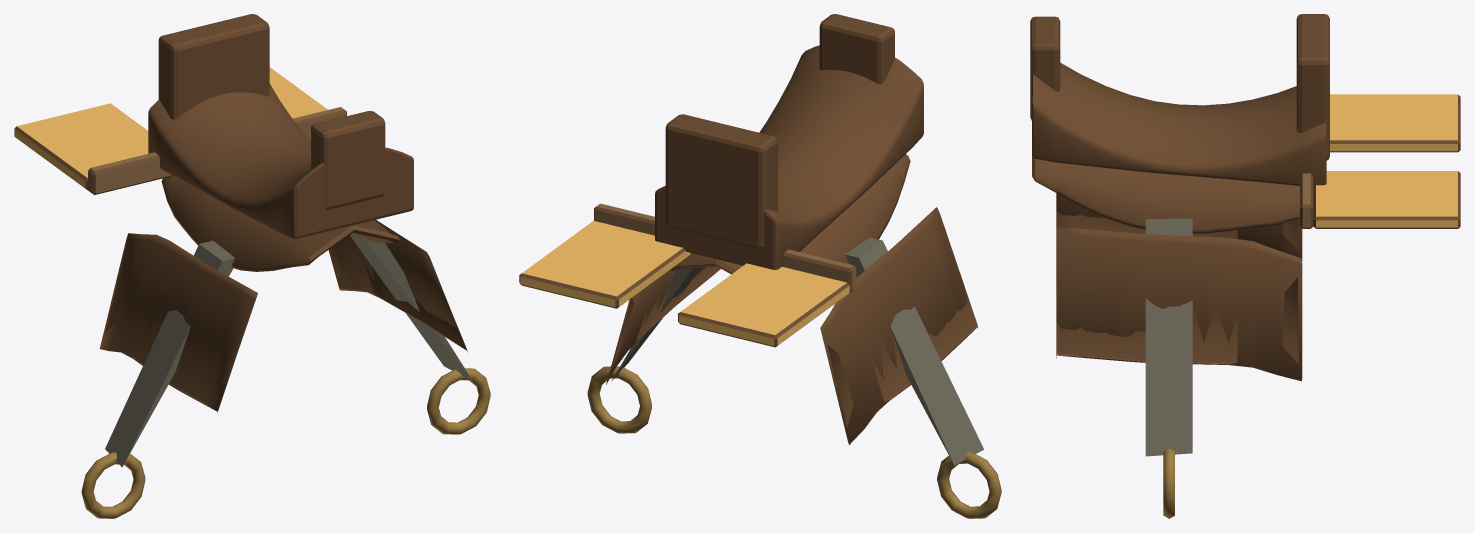
Rendered from saddle_loper.fbx.
3 renders of one model, left to right at view 1: azimuth 30°, elevation 25°; view 2: azimuth 150°, elevation 25°; view 3: azimuth 270°, elevation 25°, orthographic.
Parts seen in each view (by area): view 1: Mesh_SaddleSeat_Loper, Mesh_SaddleSkirt_Loper_R, Mesh_SaddleEnds_Loper, Mesh_SaddlePannier_Loper_R, Mesh_SaddlePanel_Loper, Mesh_SaddleStirrup_Loper_R, Mesh_SaddleSkirt_Loper_L, Mesh_SaddleStirrup_Loper_L, Mesh_SaddlePannier_Loper_L; view 2: Mesh_SaddleSeat_Loper, Mesh_SaddleSkirt_Loper_R, Mesh_SaddleEnds_Loper, Mesh_SaddlePannier_Loper_R, Mesh_SaddlePannier_Loper_L, Mesh_SaddleStirrup_Loper_R, Mesh_SaddlePanel_Loper, Mesh_SaddleStirrup_Loper_L, Mesh_SaddleSkirt_Loper_L; view 3: Mesh_SaddleSkirt_Loper_L, Mesh_SaddleSeat_Loper, Mesh_SaddlePanel_Loper, Mesh_SaddlePannier_Loper_L, Mesh_SaddleStirrup_Loper_L, Mesh_SaddlePannier_Loper_R, Mesh_SaddleEnds_Loper, Mesh_SaddleSkirt_Loper_R.
Part boxes in pixels (left/top/right/bottom): Mesh_SaddleSeat_Loper: left=148, top=84, right=413, bottom=239; Mesh_SaddleSkirt_Loper_R: left=99, top=233, right=257, bottom=412; Mesh_SaddleEnds_Loper: left=158, top=14, right=385, bottom=209; Mesh_SaddlePannier_Loper_R: left=14, top=103, right=172, bottom=194; Mesh_SaddlePanel_Loper: left=161, top=176, right=400, bottom=271; Mesh_SaddleStirrup_Loper_R: left=81, top=240, right=234, bottom=518; Mesh_SaddleSkirt_Loper_L: left=328, top=220, right=467, bottom=352; Mesh_SaddleStirrup_Loper_L: left=349, top=232, right=490, bottom=434; Mesh_SaddlePannier_Loper_L: left=269, top=67, right=346, bottom=140; Mesh_SaddleSeat_Loper: left=655, top=45, right=923, bottom=269; Mesh_SaddleSkirt_Loper_R: left=820, top=207, right=978, bottom=444; Mesh_SaddleEnds_Loper: left=665, top=14, right=894, bottom=249; Mesh_SaddlePannier_Loper_R: left=678, top=249, right=856, bottom=347; Mesh_SaddlePannier_Loper_L: left=519, top=203, right=691, bottom=308; Mesh_SaddleStirrup_Loper_R: left=845, top=237, right=1001, bottom=518; Mesh_SaddlePanel_Loper: left=670, top=154, right=910, bottom=274; Mesh_SaddleStirrup_Loper_L: left=587, top=267, right=701, bottom=433; Mesh_SaddleSkirt_Loper_L: left=606, top=266, right=720, bottom=384; Mesh_SaddleSkirt_Loper_L: left=1056, top=227, right=1302, bottom=381; Mesh_SaddleSeat_Loper: left=1032, top=63, right=1326, bottom=186; Mesh_SaddlePanel_Loper: left=1032, top=155, right=1299, bottom=233; Mesh_SaddlePannier_Loper_L: left=1300, top=171, right=1460, bottom=228; Mesh_SaddleStirrup_Loper_L: left=1145, top=218, right=1192, bottom=518; Mesh_SaddlePannier_Loper_R: left=1330, top=94, right=1460, bottom=152; Mesh_SaddleEnds_Loper: left=1030, top=14, right=1329, bottom=160; Mesh_SaddleSkirt_Loper_R: left=1056, top=193, right=1302, bottom=261.
Bounding box in the file's own units: 70.53 × 66.1 × 64.25.
